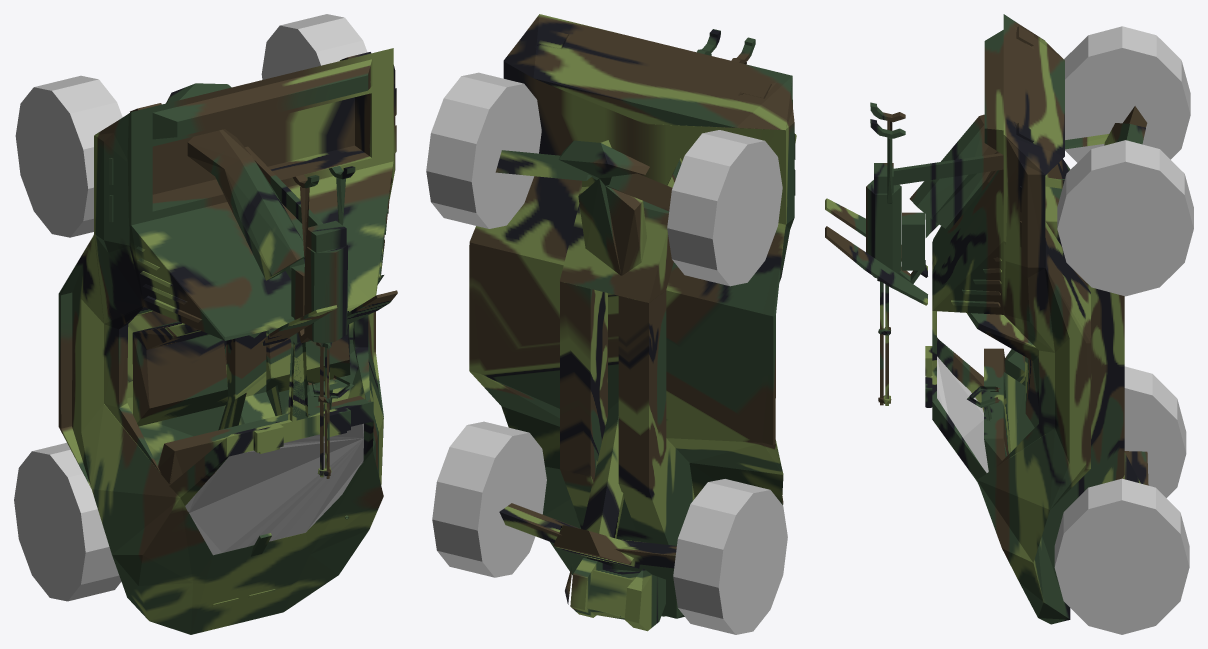
File: BHWarthog1k7_wtf.obj
3 renders of one model, left to right at view 1: azimuth 30°, elevation 25°; view 2: azimuth 150°, elevation 25°; view 3: azimuth 270°, elevation 25°, orthographic. The views are drawn at different scales.
Visible parts, largest first — view 1: group1, group2, group3; view 2: group1, group2; view 3: group1, group2, group3.
Part boxes in pixels (x1,y1,x2,y2): group1: (58,48,397,634); group2: (14,14,367,601); group3: (185,423,363,555); group1: (469,14,796,631); group2: (426,72,787,634); group1: (825,14,1148,624); group2: (1054,26,1193,634); group3: (937,356,988,484).
Bounding box in the file's own units: 386 × 660 × 416.
